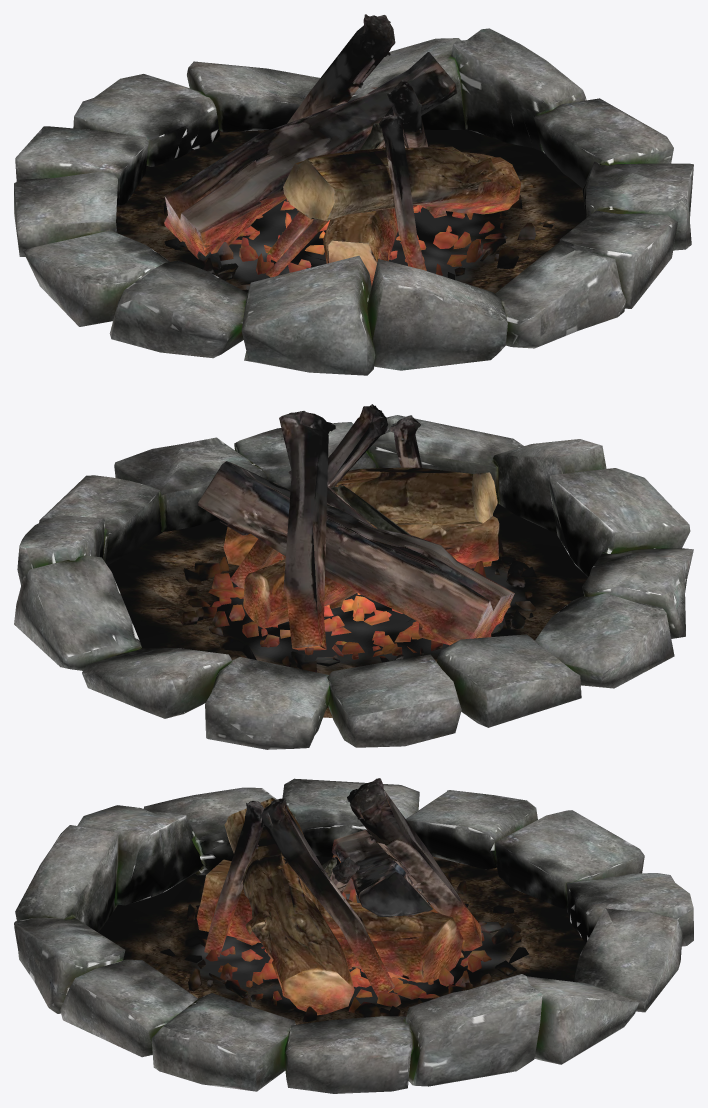
Rendered from campfire-0-mid.glb.
The picture shows the model from 3 angles, top to bottom: view 1: azimuth 30°, elevation 25°; view 2: azimuth 150°, elevation 25°; view 3: azimuth 270°, elevation 25°; orthographic projection. The views are drawn at different scales.
Parts seen in each view (by area): view 1: Stones_Stones_0, Logs_Logs_0, Ground_Ground_0, Ground Pieces_Ground Pieces_0; view 2: Stones_Stones_0, Logs_Logs_0, Ground_Ground_0, Ground Pieces_Ground Pieces_0; view 3: Stones_Stones_0, Logs_Logs_0, Ground_Ground_0, Ground Pieces_Ground Pieces_0.
Part boxes in pixels (left/top/right/bottom): Stones_Stones_0: left=14, top=28, right=693, bottom=375; Logs_Logs_0: left=164, top=14, right=520, bottom=286; Ground_Ground_0: left=116, top=129, right=585, bottom=293; Ground Pieces_Ground Pieces_0: left=157, top=146, right=553, bottom=289; Stones_Stones_0: left=14, top=415, right=693, bottom=749; Logs_Logs_0: left=197, top=404, right=514, bottom=650; Ground_Ground_0: left=107, top=504, right=587, bottom=717; Ground Pieces_Ground Pieces_0: left=180, top=537, right=536, bottom=672; Stones_Stones_0: left=14, top=778, right=693, bottom=1093; Logs_Logs_0: left=196, top=778, right=482, bottom=1015; Ground_Ground_0: left=98, top=856, right=585, bottom=1024; Ground Pieces_Ground Pieces_0: left=160, top=862, right=528, bottom=1021.
Size of the model in its own units: 1.65 by 0.5454 by 1.69.
4 materials, 4 textured.
